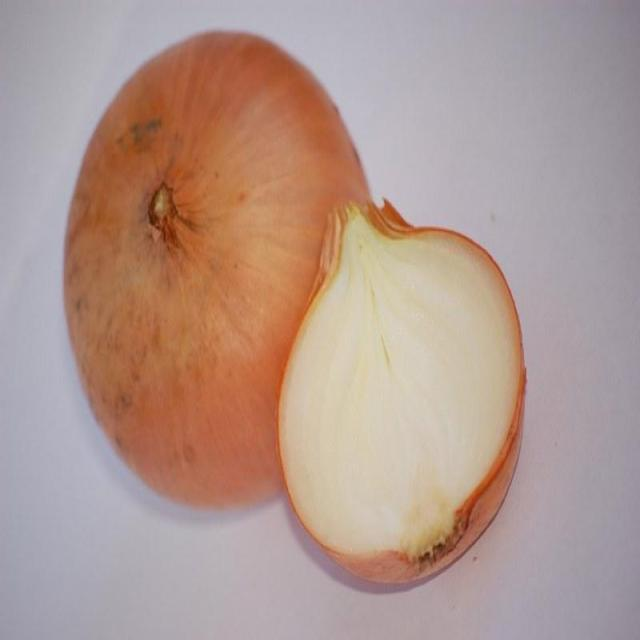Onion: (63, 29, 373, 512), (276, 192, 527, 590)
